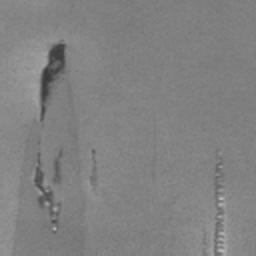Slag inclusion: (40, 42, 70, 125), (32, 152, 61, 233), (212, 154, 227, 253), (52, 146, 65, 182), (91, 150, 99, 189)
